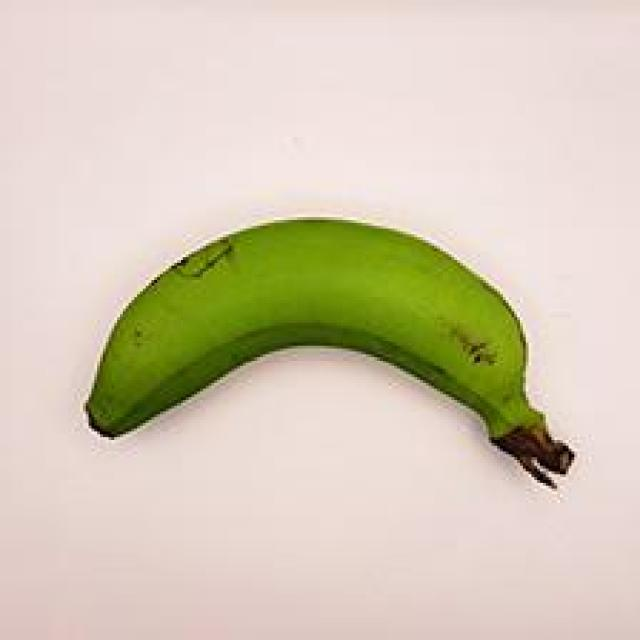Raw: (69, 202, 598, 526)
